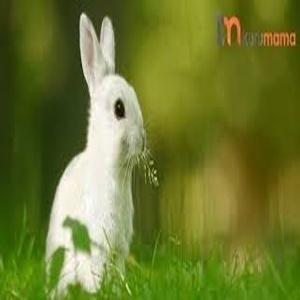rabbit: (46, 13, 145, 294)
